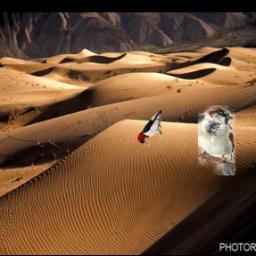Sparrow: (199, 105, 237, 175)
Woodpecker: (137, 108, 162, 146)
